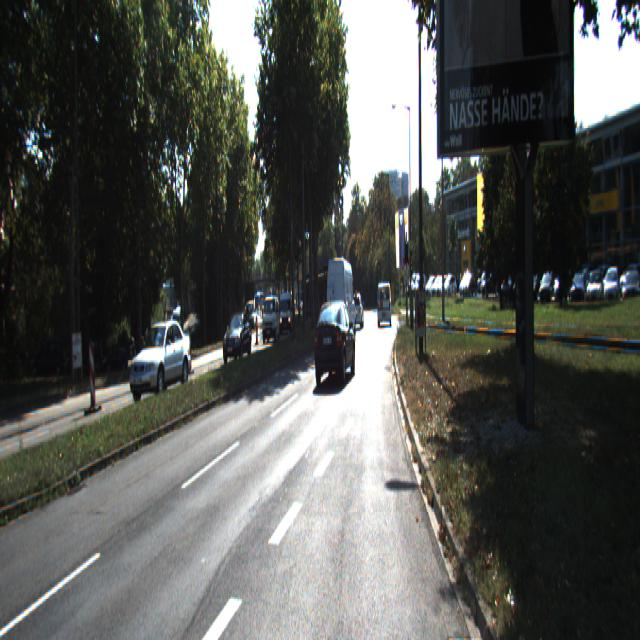Car: (129, 315, 190, 405), (314, 299, 356, 387), (326, 255, 356, 347), (307, 270, 343, 324), (222, 310, 252, 362), (262, 296, 280, 346), (279, 292, 293, 338), (378, 282, 392, 327), (352, 292, 364, 329)
